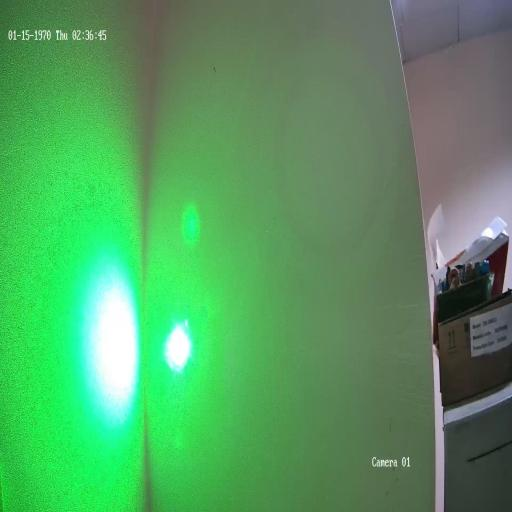laser: (160, 305, 195, 380)
